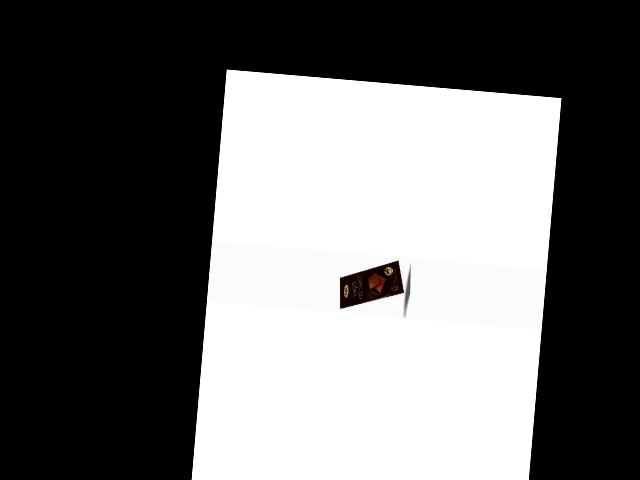chocolate: (336, 254, 409, 314)
